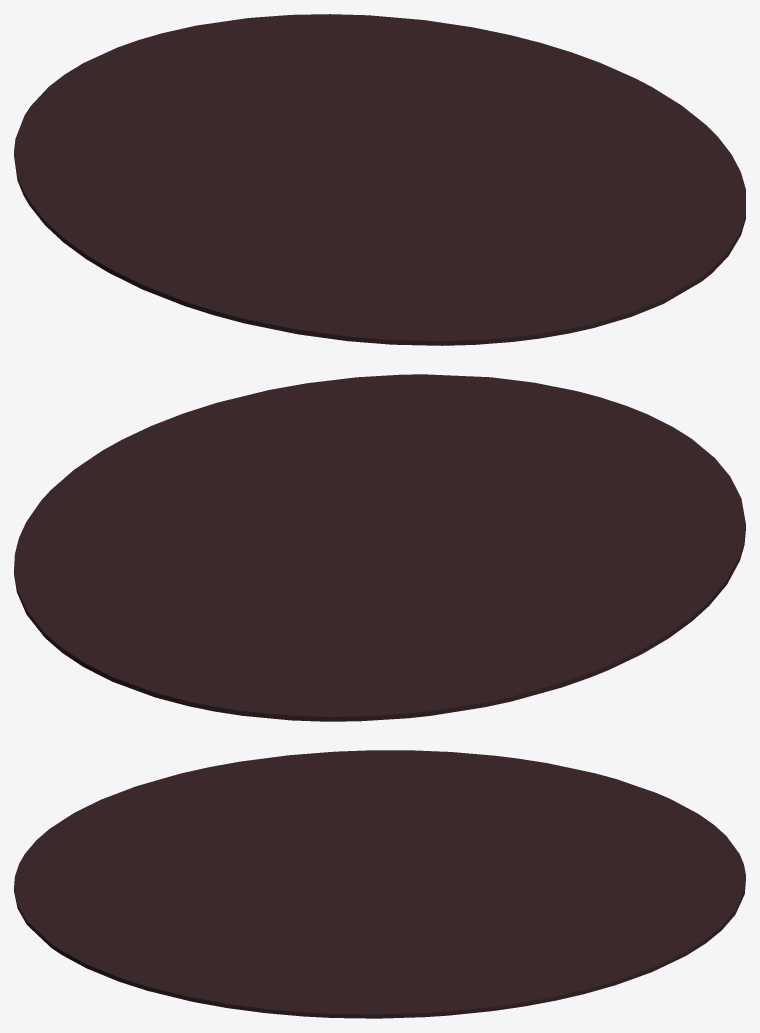
Rendered from alfombra.FBX.
3 renders of one model, top to bottom at view 1: azimuth 30°, elevation 25°; view 2: azimuth 150°, elevation 25°; view 3: azimuth 270°, elevation 25°, orthographic. The views are drawn at different scales.
Visible parts, largest first — view 1: alfombra; view 2: alfombra; view 3: alfombra.
Part boxes in pixels (x1=…): alfombra: x1=14, y1=14, x2=745, y2=345; alfombra: x1=14, y1=374, x2=745, y2=721; alfombra: x1=14, y1=750, x2=745, y2=1018.
Bounding box in the file's own units: 53.52 × 0.3937 × 62.67.
